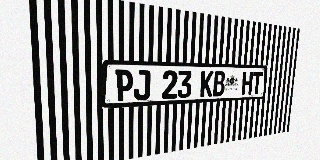2: (162, 70, 178, 99)
3: (177, 70, 192, 98)
B: (213, 71, 226, 96)
H: (241, 71, 253, 95)
J: (133, 70, 150, 100)
K: (200, 71, 214, 97)
P: (115, 70, 133, 101)
T: (251, 72, 263, 95)
